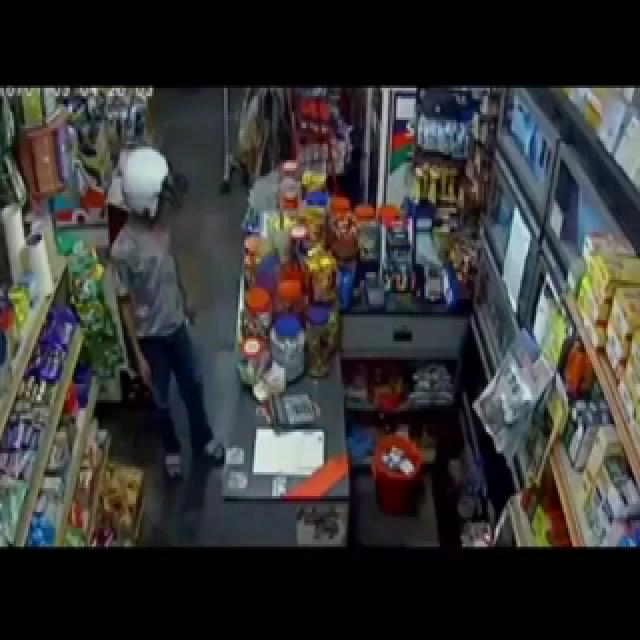robbery: (83, 18, 306, 488)
